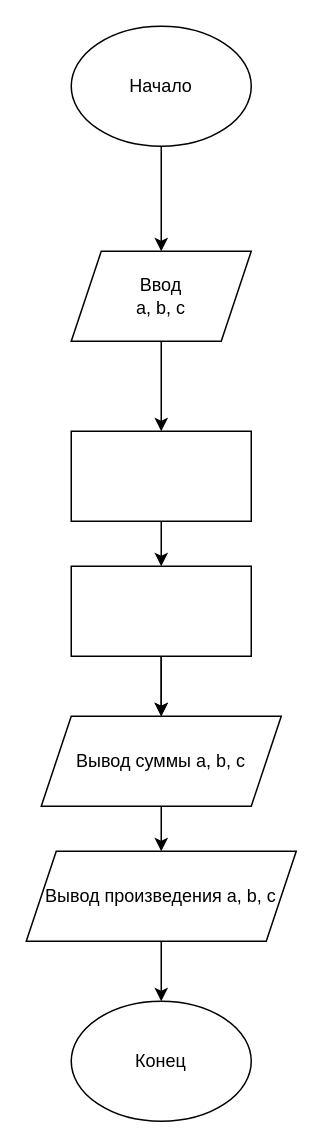
This 323x1148 diagram has some shape labels left out. The centre of each missing label's shape, as x and y in pixels:
Находим произведение a, b, c: [160,610]
Складываем a, b, c: [160,475]
